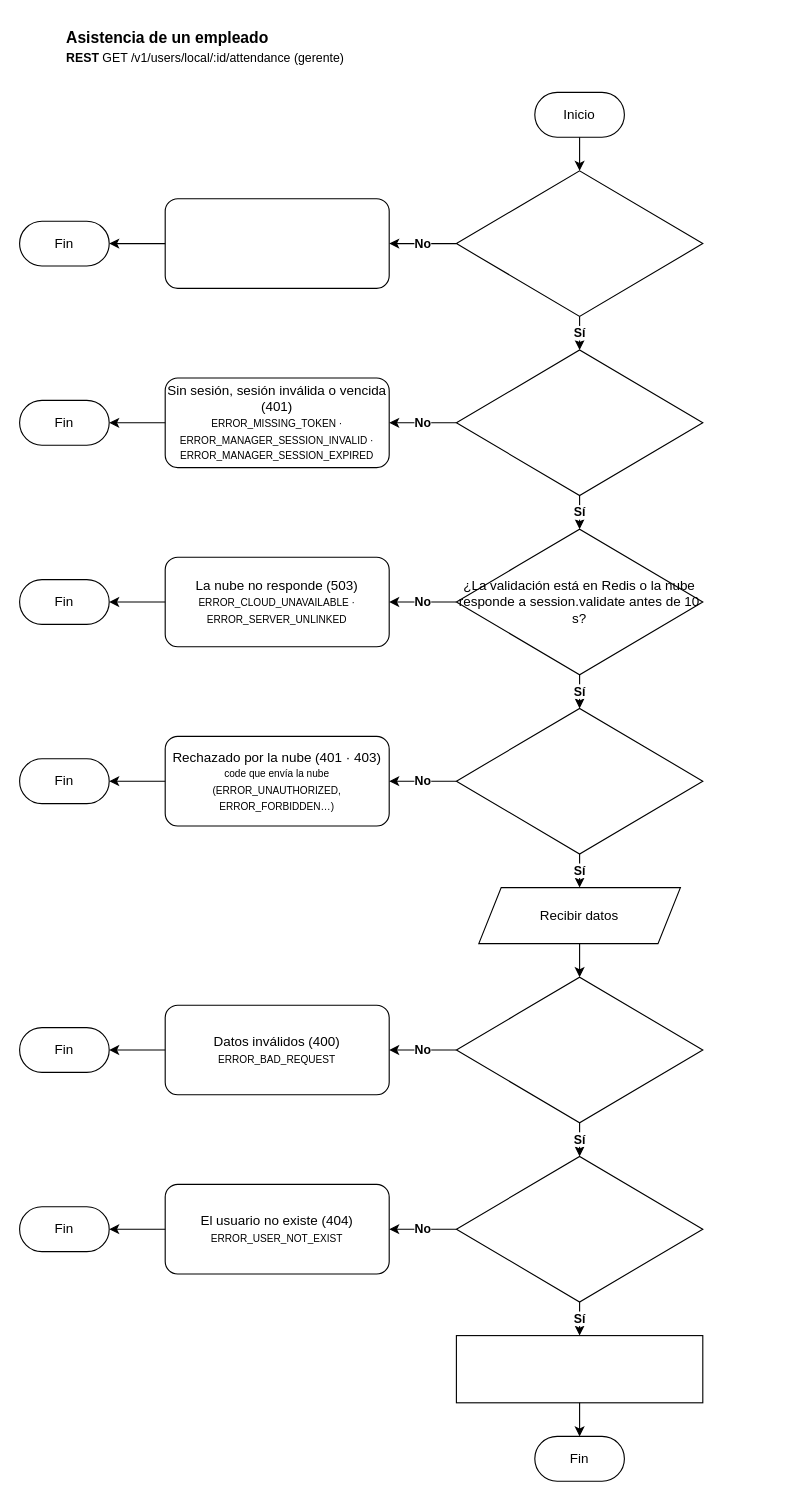
This 801x1501 diagram has some shape labels left out. The box of each missing label's shape, as (x1, y1, x2, y2) in pixels:
Responder 200 con el mensaje ATTENDANCE_RETRIEVED: (455, 1334, 703, 1403)
Servidor sin emparejar (409) ERROR_SERVER_NOT_PAIRED: (164, 198, 389, 288)
¿El servidor ya se emparejó alguna vez (pairing_status distinto de unpaired)?: (455, 170, 703, 316)
¿Existe el empleado?: (455, 1155, 703, 1302)
¿La nube acepta la sesión del gerente con este servidor?: (455, 707, 703, 854)
¿Los datos son válidos?: (455, 976, 703, 1123)
¿Trae una sesión de gerente válida (Bearer mss_..., sin 30 min de inactividad)?: (455, 349, 703, 496)
